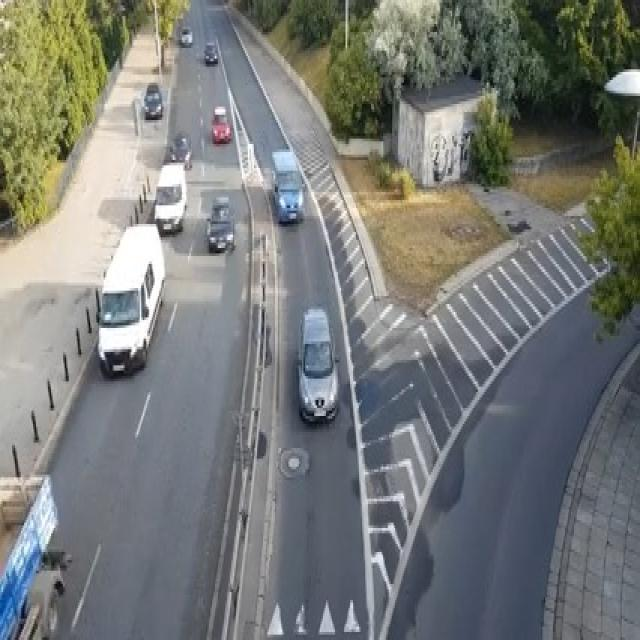bus: (96, 221, 165, 376), (270, 147, 305, 224)
car: (296, 304, 339, 424), (154, 162, 186, 235), (206, 194, 234, 250), (210, 104, 232, 144), (170, 131, 192, 168), (143, 83, 162, 117), (203, 40, 218, 64), (179, 24, 192, 45)
